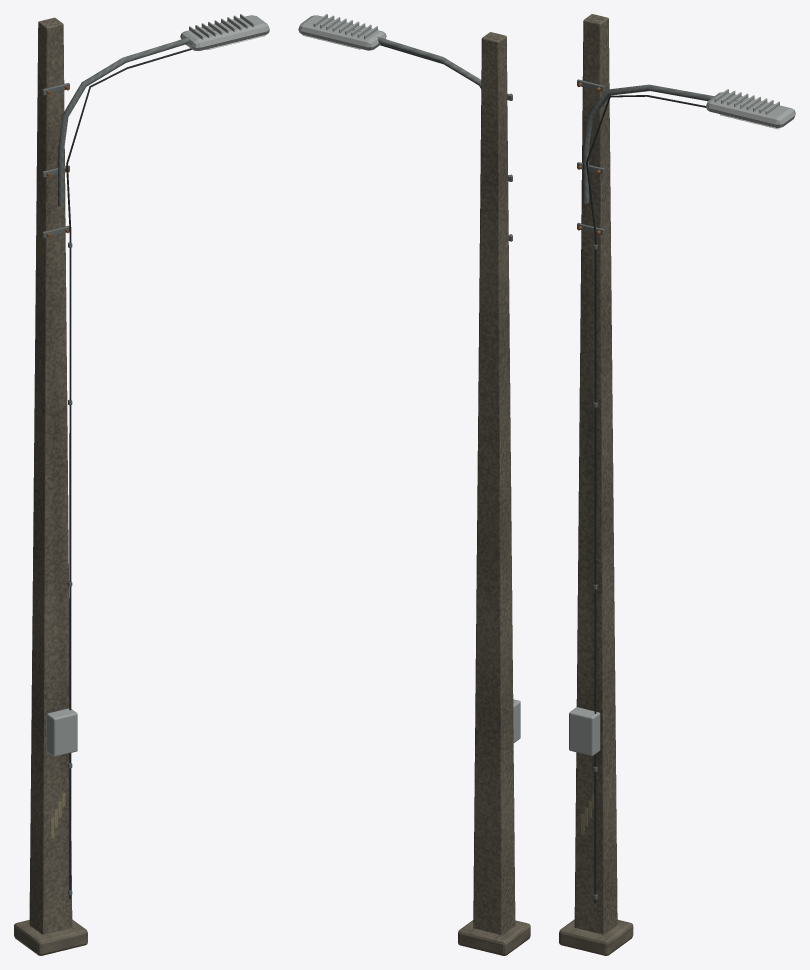
File: chennai-concrete-streetlight.glb
The picture shows the model from 3 angles, left to right: view 1: azimuth 30°, elevation 25°; view 2: azimuth 150°, elevation 25°; view 3: azimuth 330°, elevation 25°; orthographic projection.
Parts seen in each view (by area): view 1: chennai-concrete-streetlight / Concrete | mineral aggregate , chennai-concrete-streetlight / Cast grey luminaire, chennai-concrete-streetlight / UV aged cable rubber, chennai-concrete-streetlight / Galvanized zinc | mottled dul; view 2: chennai-concrete-streetlight / Concrete | mineral aggregate , chennai-concrete-streetlight / Cast grey luminaire, chennai-concrete-streetlight / Galvanized zinc | mottled dul; view 3: chennai-concrete-streetlight / Concrete | mineral aggregate , chennai-concrete-streetlight / Cast grey luminaire, chennai-concrete-streetlight / UV aged cable rubber, chennai-concrete-streetlight / Galvanized zinc | mottled dul.
Part boxes in pixels (bbox=[...]): chennai-concrete-streetlight / Concrete | mineral aggregate : bbox=[14, 17, 87, 955]; chennai-concrete-streetlight / Cast grey luminaire: bbox=[46, 14, 269, 756]; chennai-concrete-streetlight / UV aged cable rubber: bbox=[66, 48, 191, 898]; chennai-concrete-streetlight / Galvanized zinc | mottled dul: bbox=[42, 29, 214, 895]; chennai-concrete-streetlight / Concrete | mineral aggregate : bbox=[458, 32, 530, 955]; chennai-concrete-streetlight / Cast grey luminaire: bbox=[298, 14, 520, 742]; chennai-concrete-streetlight / Galvanized zinc | mottled dul: bbox=[352, 29, 512, 241]; chennai-concrete-streetlight / Concrete | mineral aggregate : bbox=[559, 14, 633, 955]; chennai-concrete-streetlight / Cast grey luminaire: bbox=[569, 89, 795, 755]; chennai-concrete-streetlight / UV aged cable rubber: bbox=[586, 95, 705, 903]; chennai-concrete-streetlight / Galvanized zinc | mottled dul: bbox=[577, 79, 742, 899].
Bounding box in the file's own units: 1.97 × 7.6 × 0.48.
Materials: 7 (3 with a texture image).
